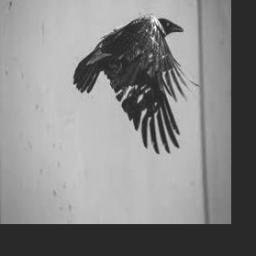Crow: (72, 16, 200, 154)
